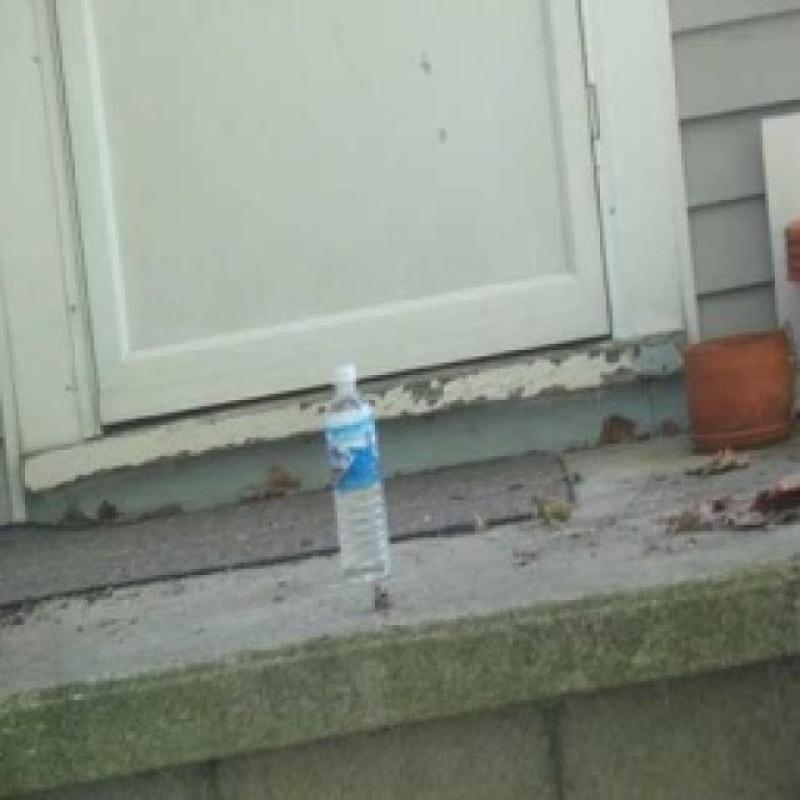botella: (322, 366, 390, 584)
